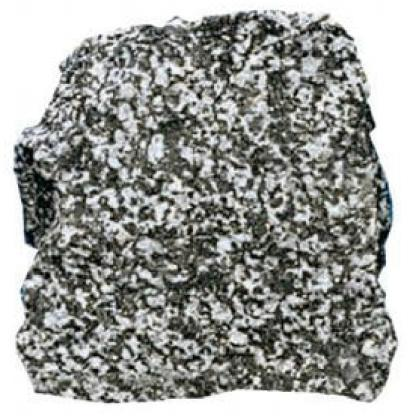Igneous_Diorite: (2, 10, 396, 400)
